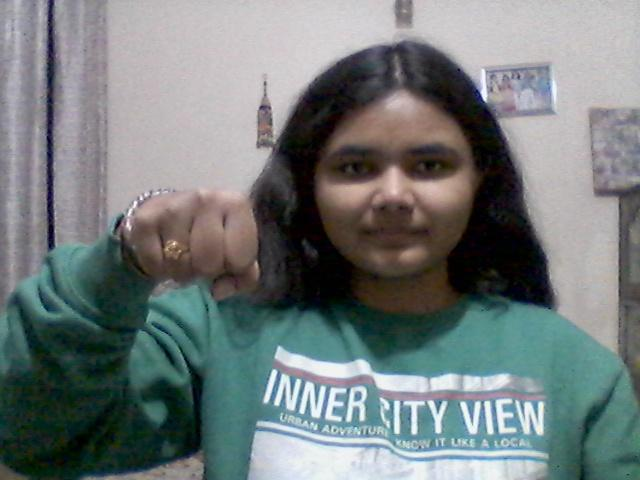yes: (121, 181, 259, 291)
